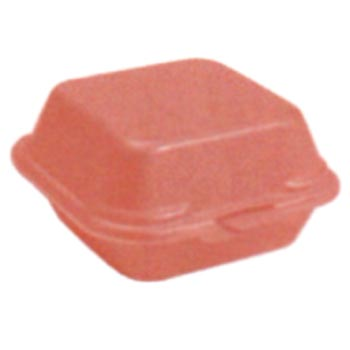Foam Box: (7, 54, 347, 285)
